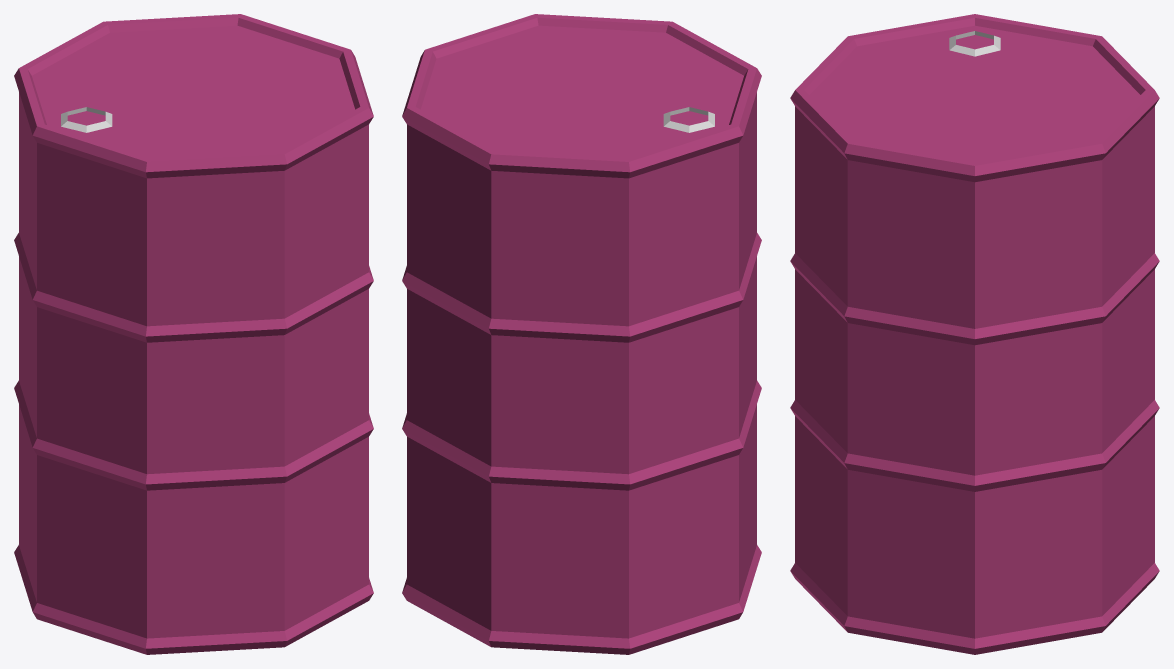
Rendered from DrumPink.fbx.
The picture shows the model from 3 angles, left to right: view 1: azimuth 30°, elevation 25°; view 2: azimuth 150°, elevation 25°; view 3: azimuth 270°, elevation 25°; orthographic projection.
Parts seen in each view (by area): view 1: Cylinder; view 2: Cylinder; view 3: Cylinder.
Part boxes in pixels (box(x1,y1,x2,y2)): Cylinder: box(14, 14, 373, 654); Cylinder: box(402, 14, 761, 654); Cylinder: box(790, 14, 1159, 654).
Size of the model in its own units: 0.822 by 1.2 by 0.822.
